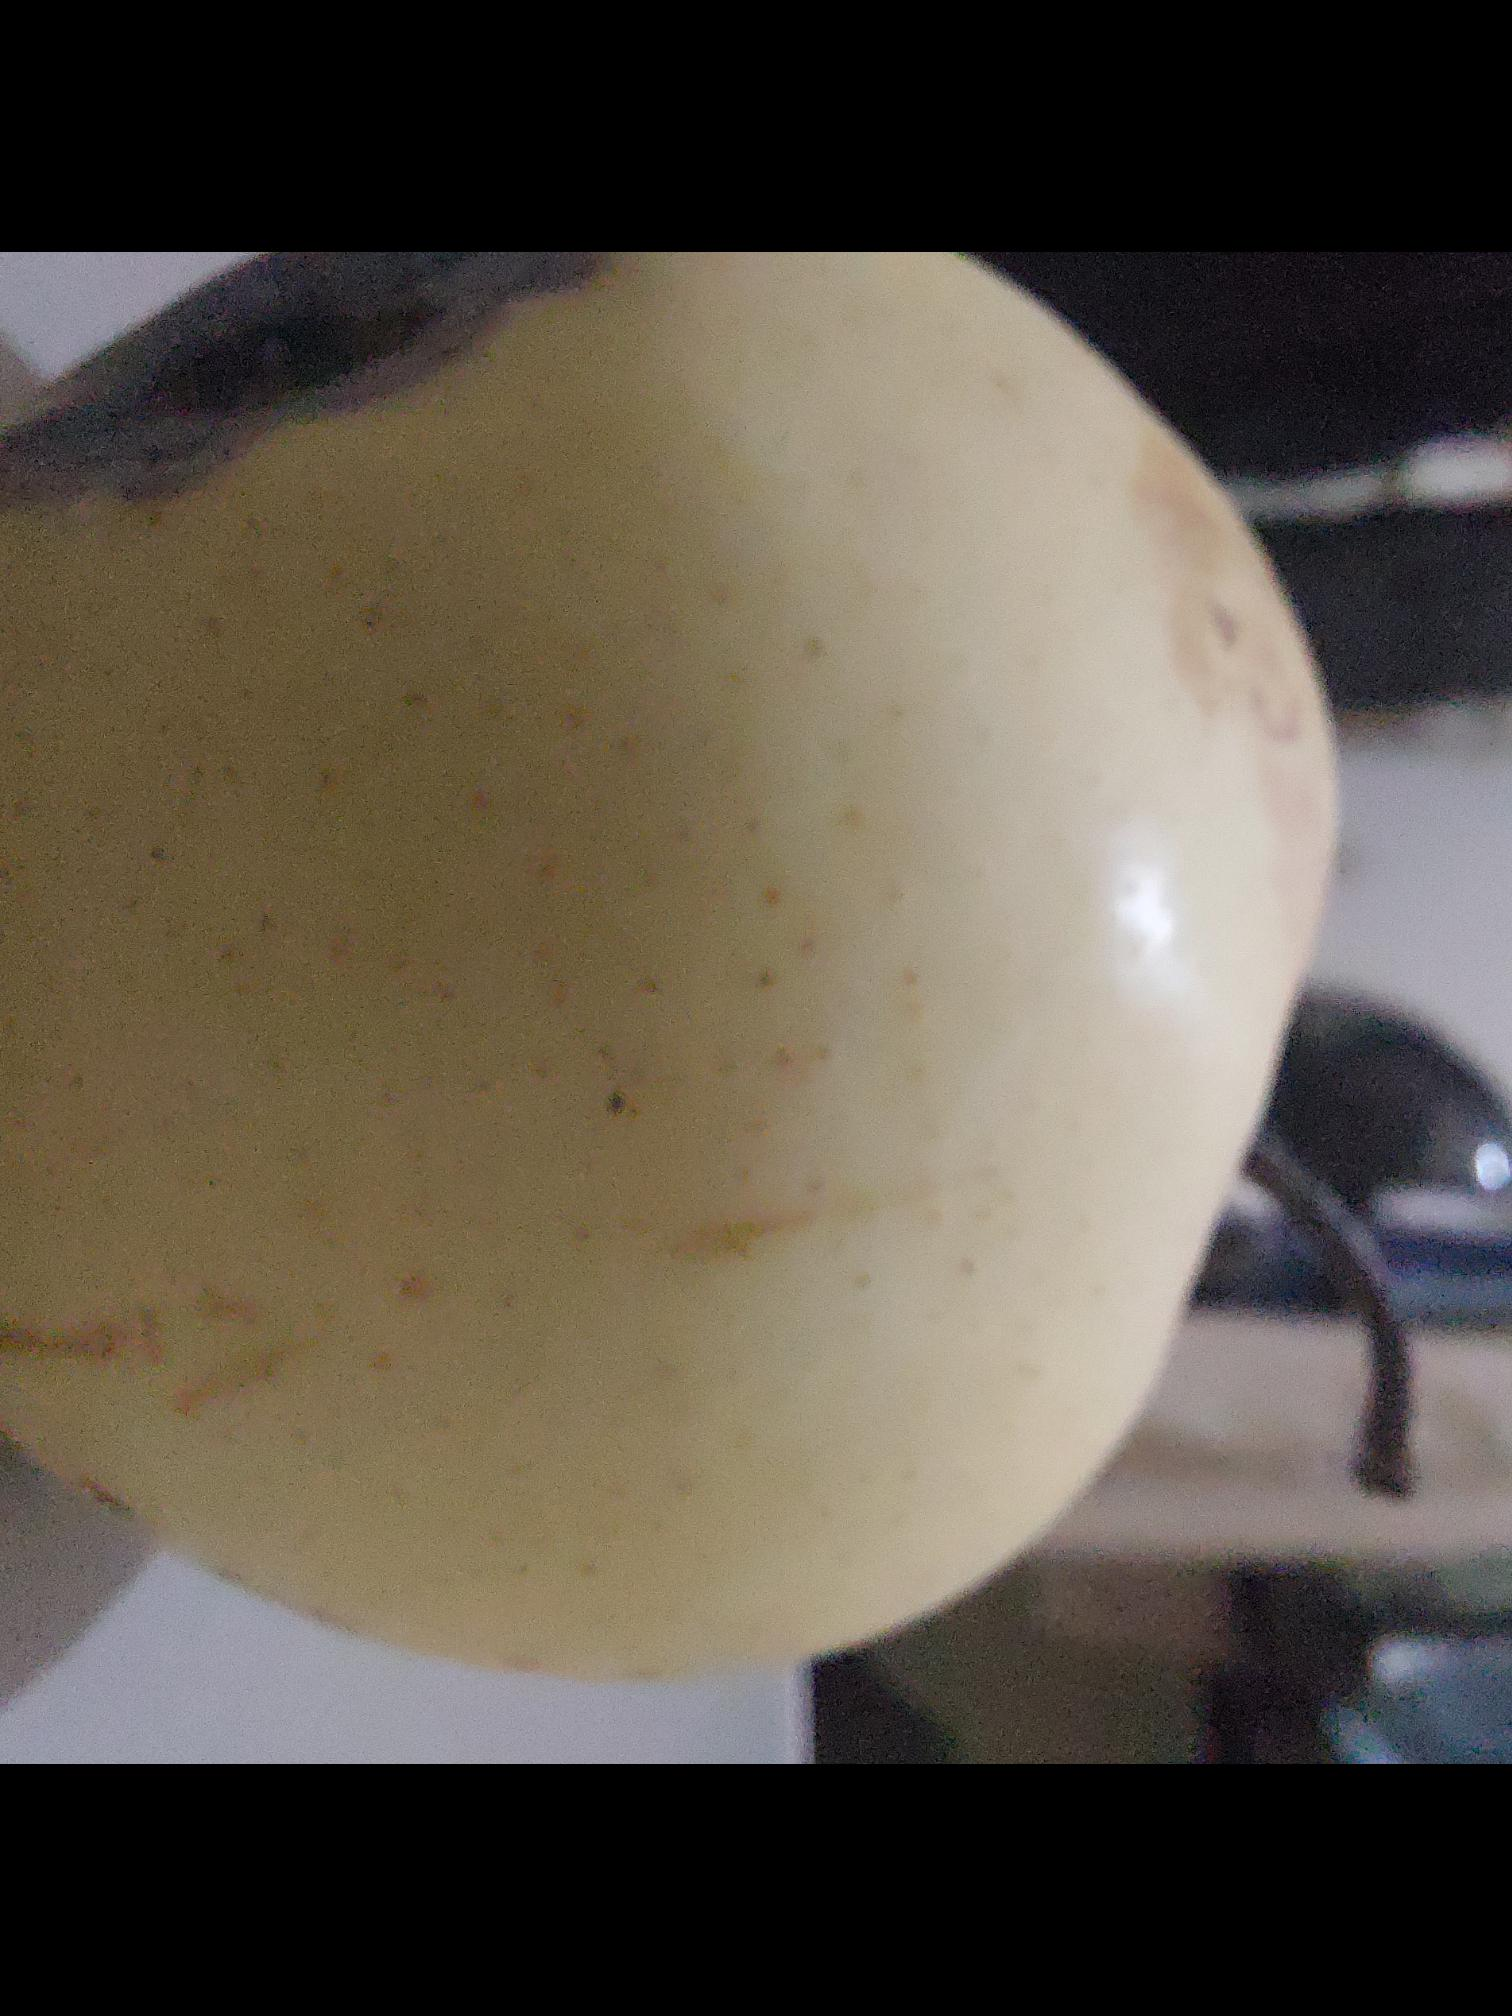Bad Pear: (0, 252, 1340, 1667)
